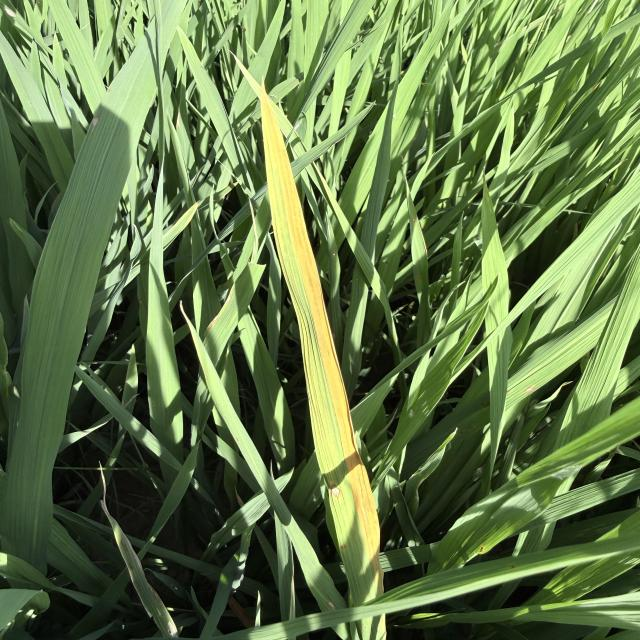Chay bia la: (259, 96, 385, 599)
